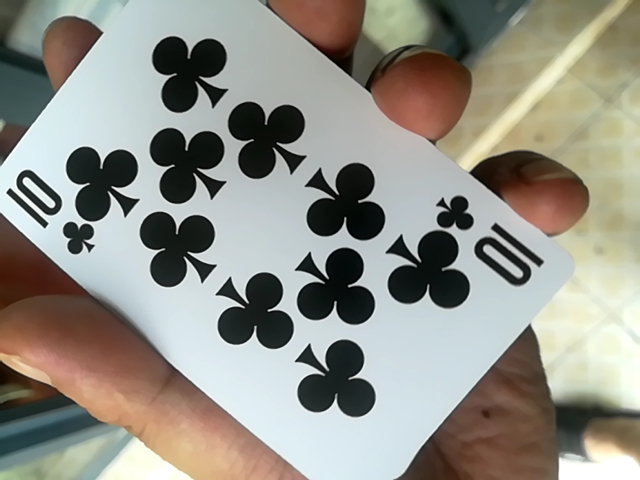mh 10: (10, 8, 556, 475)
